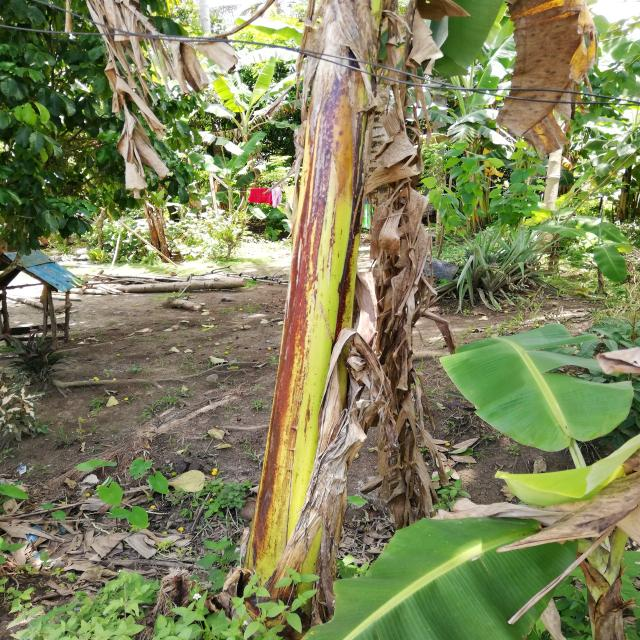Banana-plant: (181, 9, 413, 598)
